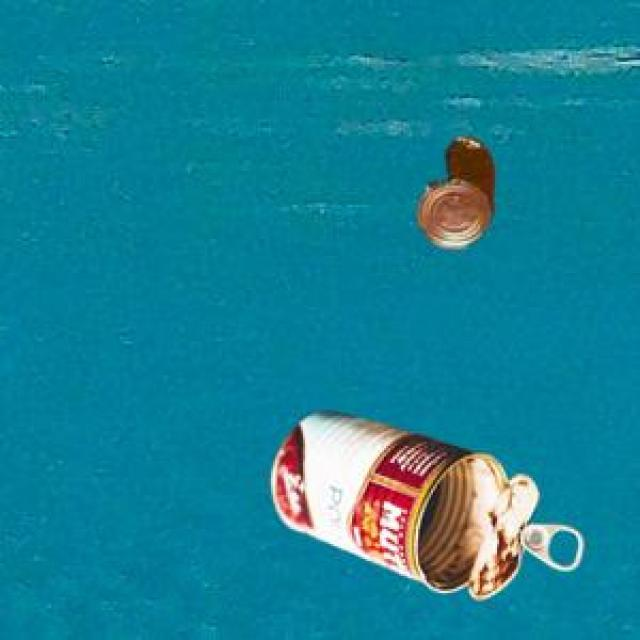Can: (268, 409, 579, 596), (415, 133, 492, 244)
